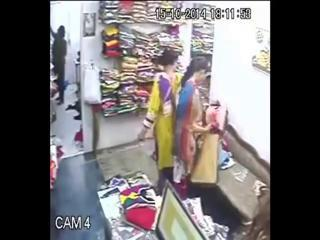shoplifting: (138, 47, 180, 196), (220, 123, 270, 240), (173, 55, 212, 188)
